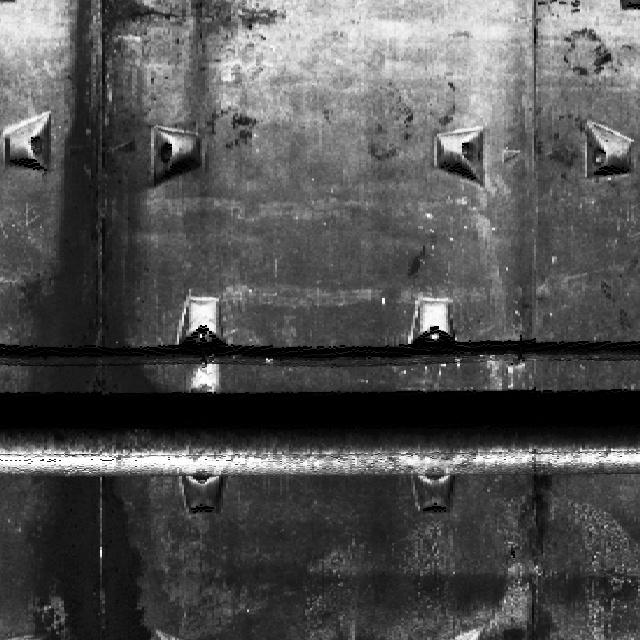leakage: (34, 0, 167, 388), (18, 468, 159, 636)
